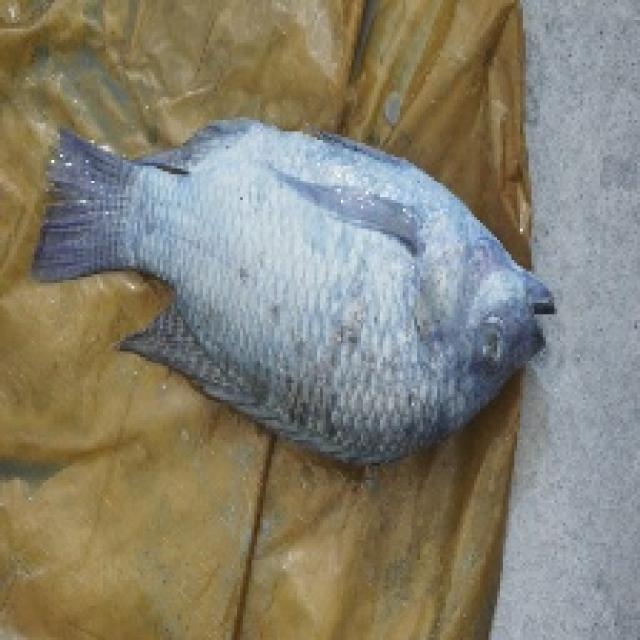Non-Fresh: (135, 109, 563, 458)
